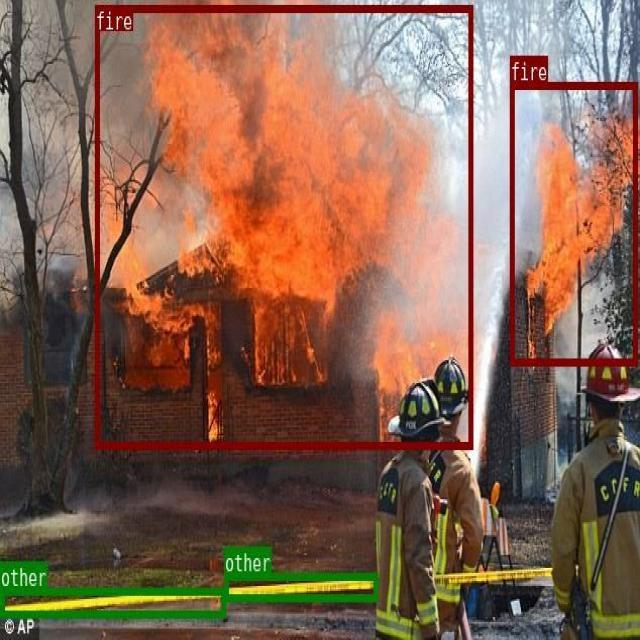fire: (94, 4, 472, 448), (509, 82, 637, 365)
